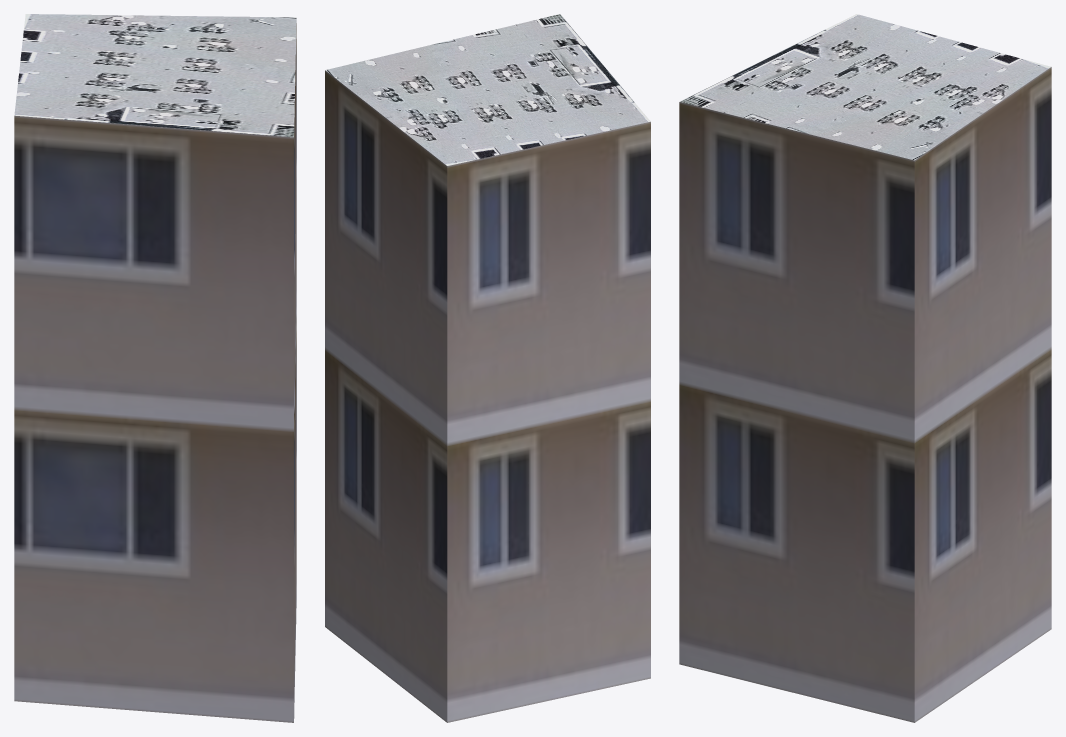
File: ResTex__5212.fbx
The picture shows the model from 3 angles, left to right: view 1: azimuth 30°, elevation 25°; view 2: azimuth 150°, elevation 25°; view 3: azimuth 270°, elevation 25°; orthographic projection. The views are drawn at different scales.
Visible parts, largest first — view 1: CityEngineMaterial_21_m, CityEngineMaterial_4_m; view 2: CityEngineMaterial_21_m, CityEngineMaterial_4_m; view 3: CityEngineMaterial_21_m, CityEngineMaterial_4_m.
Part boxes in pixels (bbox=[...]): CityEngineMaterial_21_m: bbox=[14, 23, 296, 722]; CityEngineMaterial_4_m: bbox=[14, 14, 296, 137]; CityEngineMaterial_21_m: bbox=[325, 70, 650, 722]; CityEngineMaterial_4_m: bbox=[325, 14, 650, 165]; CityEngineMaterial_21_m: bbox=[679, 67, 1051, 722]; CityEngineMaterial_4_m: bbox=[680, 14, 1051, 160].
Size of the model in its own units: 3.35 by 6 by 3.6.
2 materials, 2 textured.
